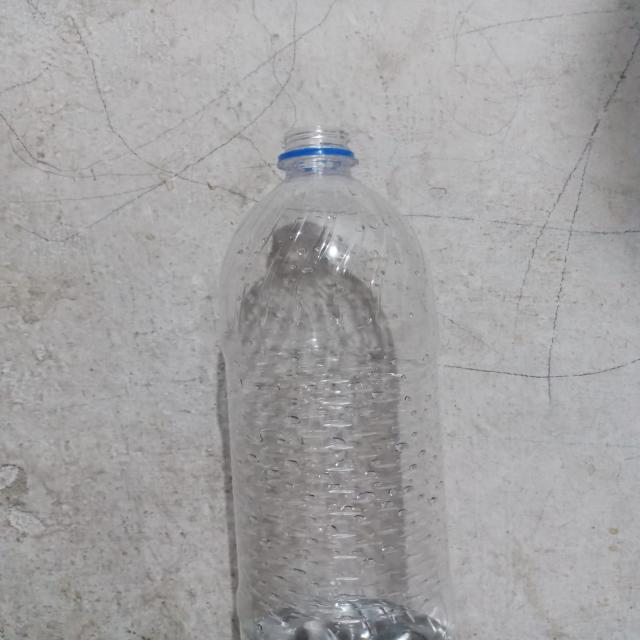bottle: (203, 114, 450, 640)
